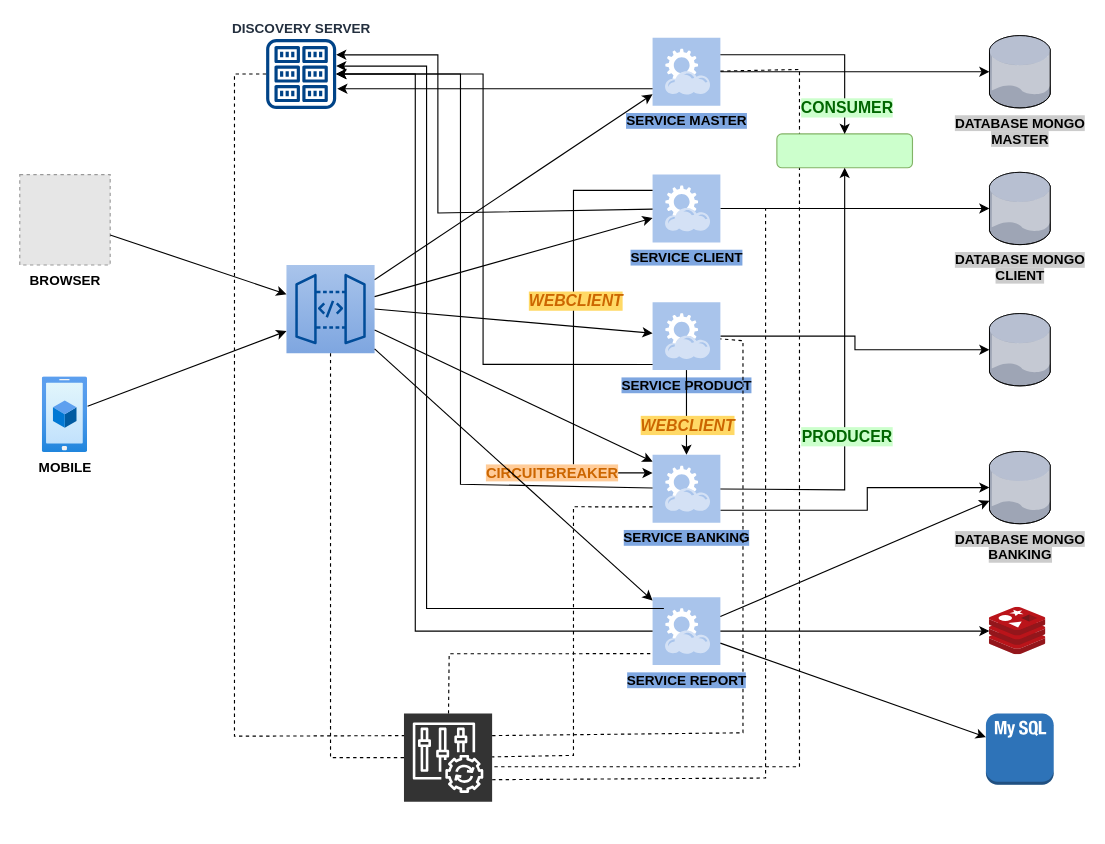
Some shapes in this 1105 by 844 pixel diagram are drawn without their labels. Grey dashed boxes stand in for pictures. The shapes that lost their labels are listed below. From the top down, each one's centre as x and y in pixels, then its label:
point 844,150: KAFKA
point 330,308: API GATEWAY
point 1019,349: DATABASE MONGO PRODUCT
point 1017,630: REDIS
point 447,757: CONFIG SERVER
point 1019,748: MYSQL
